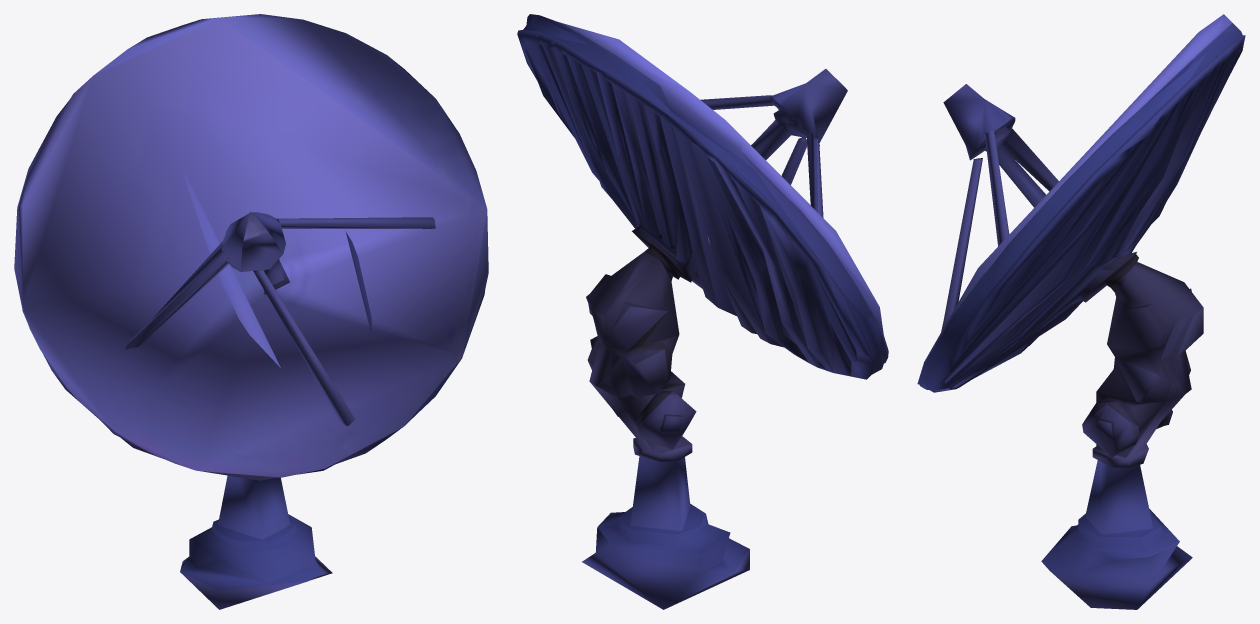
The model's file is model.progressive.glb.
3 views of the same model, side by side, from view 1: azimuth 30°, elevation 25°; view 2: azimuth 150°, elevation 25°; view 3: azimuth 270°, elevation 25° (orthographic). The views are drawn at different scales.
Parts seen in each view (by area): view 1: material; view 2: material; view 3: material.
Part boxes in pixels (bbox=[...]): material: bbox=[14, 14, 488, 609]; material: bbox=[517, 14, 888, 609]; material: bbox=[917, 14, 1245, 609].
Size of the model in its own units: 1.45 by 1.9 by 1.03.
Materials: 1 (1 with a texture image).
